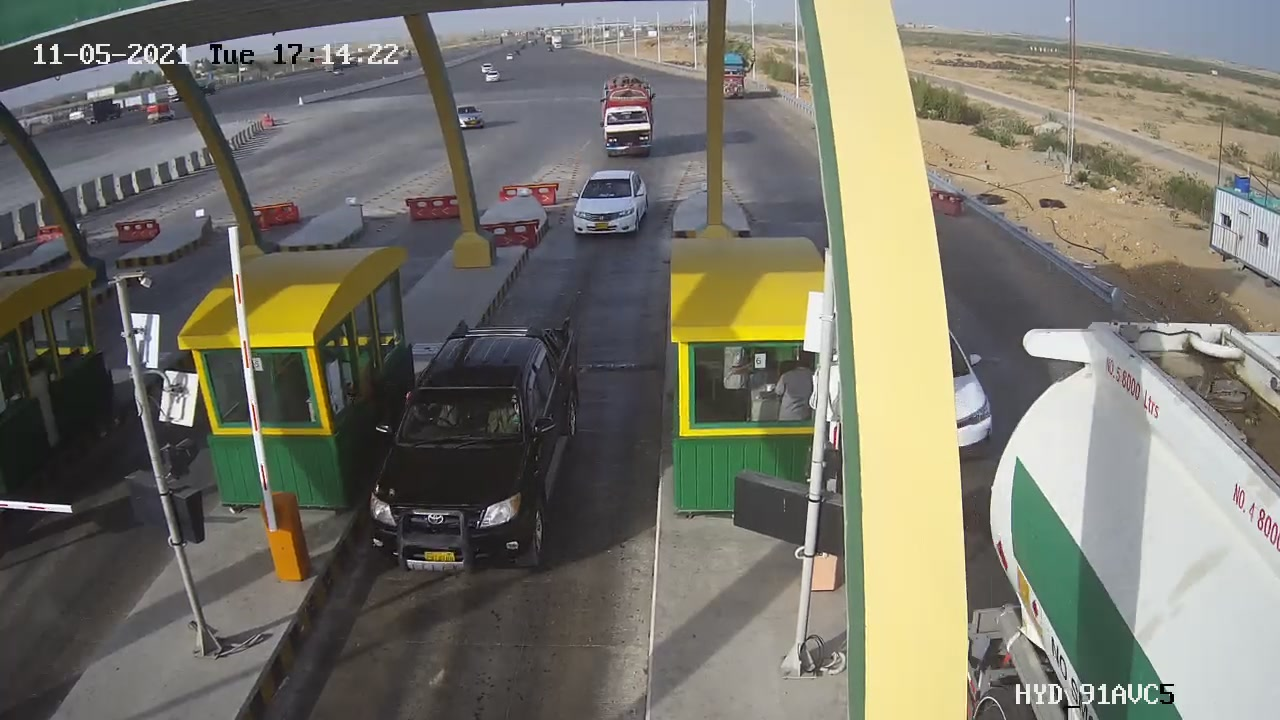F1: (340, 311, 604, 586), (560, 159, 659, 249)
